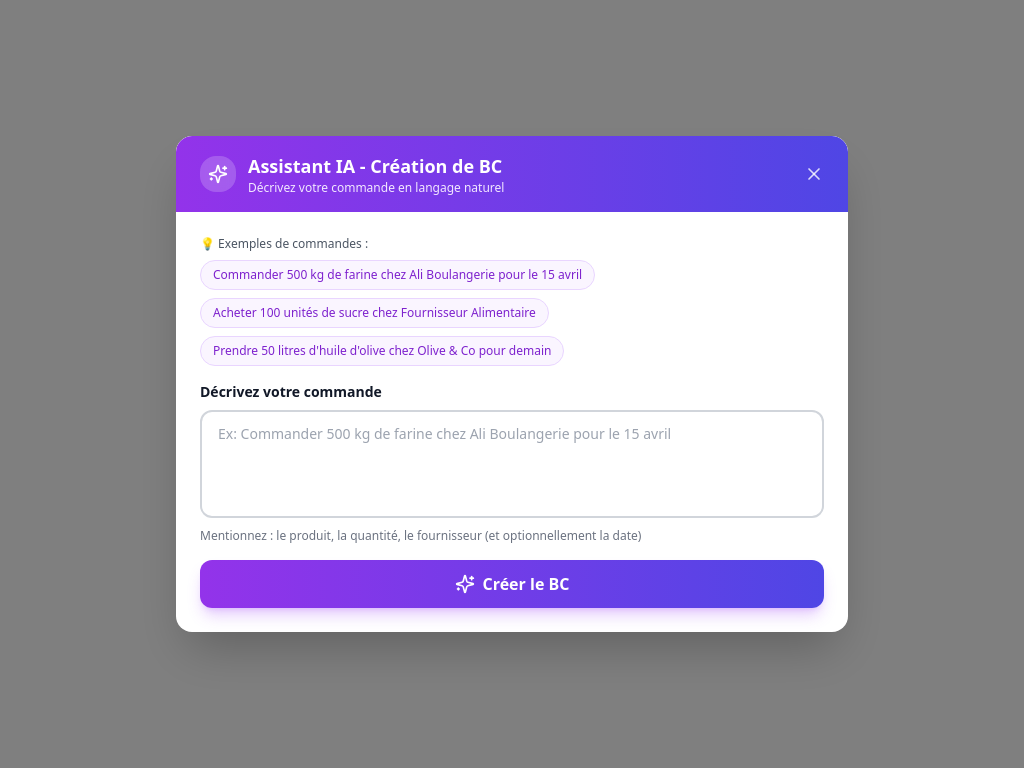
it: AiPOGeneratorModal › should handle 503 error with specific message
Replace the text in the text box with placeholder "Commander 500 kg de farine" with "Test" at x=512, y=464, box [200,410,824,518]
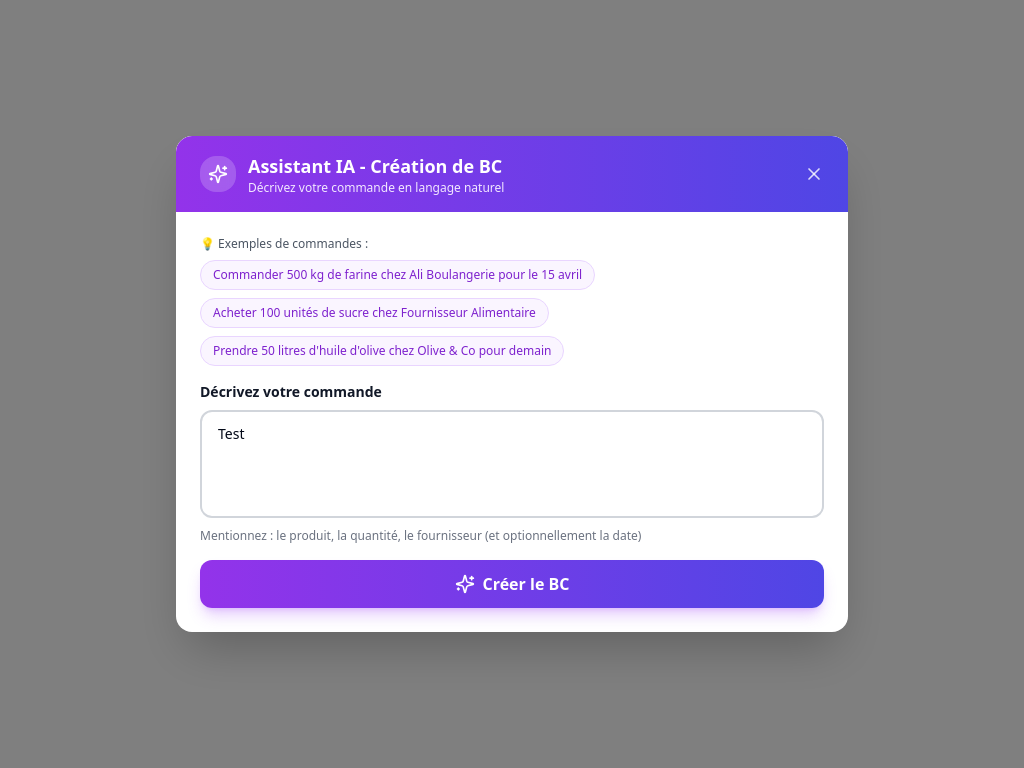
Click the button "Créer le BC" at x=512, y=584, box [200,560,824,608]
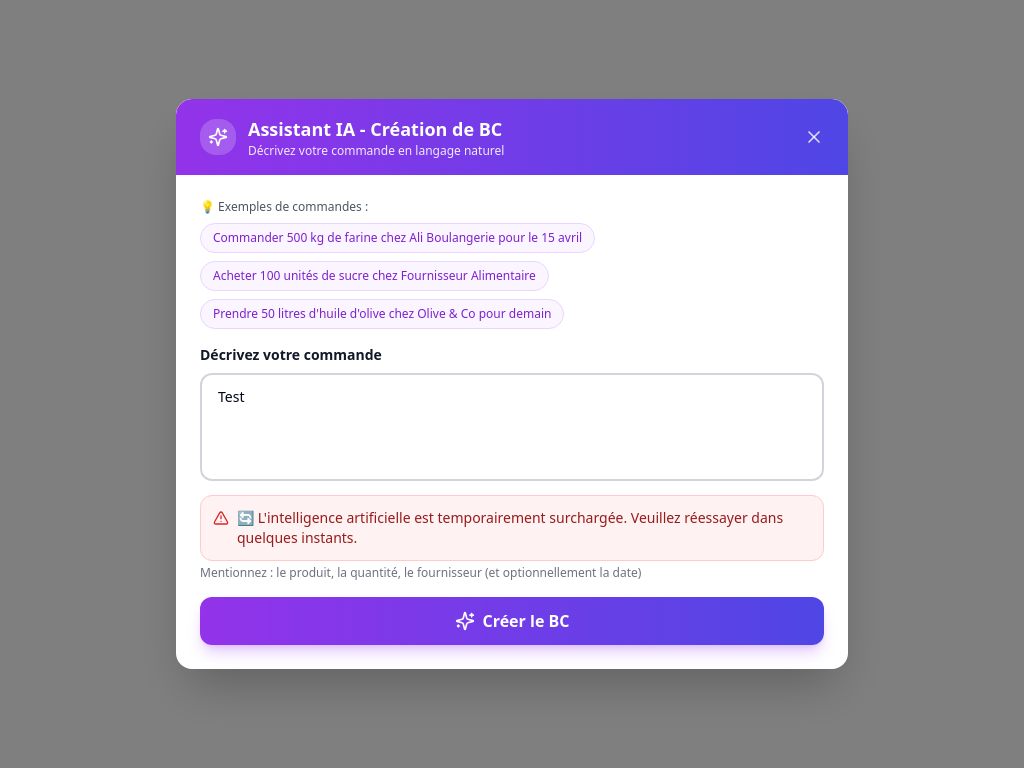
Expected: the text "intelligence artificielle est temporairement surchargée" is shown, [237,508,783,547]
